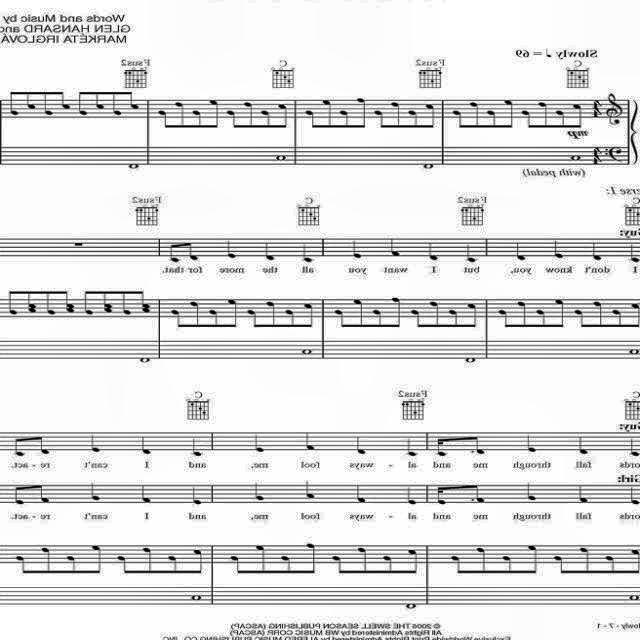Bass-clef: (604, 146, 624, 162)
Eighth-note: (79, 545, 103, 575), (295, 542, 317, 574), (518, 544, 538, 576), (247, 543, 266, 575), (396, 549, 418, 575), (348, 546, 368, 574), (572, 546, 592, 574), (183, 549, 204, 575), (619, 547, 640, 573), (221, 298, 239, 328), (318, 98, 334, 130), (386, 296, 402, 328), (349, 98, 366, 128), (32, 547, 50, 575), (134, 547, 152, 575), (56, 290, 76, 314), (14, 554, 38, 574), (450, 554, 474, 574), (567, 103, 585, 129), (501, 98, 515, 130), (464, 101, 480, 129), (238, 101, 254, 129), (170, 101, 186, 129), (587, 300, 603, 328), (424, 300, 440, 328), (260, 300, 276, 328), (184, 300, 200, 328), (470, 546, 486, 574), (229, 554, 251, 574), (83, 290, 101, 314), (205, 99, 219, 129), (534, 102, 550, 128), (420, 103, 436, 129), (106, 90, 122, 116), (76, 90, 92, 116), (36, 90, 52, 116), (462, 303, 478, 329), (331, 556, 354, 574), (304, 110, 324, 130), (226, 110, 246, 130), (51, 90, 71, 110), (334, 308, 354, 328), (272, 555, 292, 575), (374, 555, 394, 575), (596, 555, 616, 575), (116, 556, 138, 574), (552, 556, 574, 574), (386, 102, 400, 130), (8, 90, 24, 114), (114, 290, 130, 314), (40, 290, 56, 314), (27, 290, 43, 314), (134, 290, 150, 314), (274, 103, 288, 129), (626, 302, 640, 328), (8, 290, 22, 316), (521, 110, 539, 130), (573, 310, 593, 328), (552, 298, 564, 328), (497, 308, 515, 328), (410, 309, 430, 327), (352, 298, 364, 328), (33, 484, 51, 504), (158, 556, 178, 574), (374, 110, 391, 130), (158, 110, 175, 130), (19, 90, 36, 110), (245, 309, 262, 329), (300, 304, 314, 328), (103, 290, 117, 314), (89, 90, 105, 110), (168, 242, 184, 262), (14, 437, 30, 457), (496, 554, 512, 574), (170, 309, 187, 327), (452, 110, 468, 128), (121, 92, 139, 108), (182, 242, 198, 260), (32, 436, 48, 454), (60, 556, 76, 574), (404, 109, 418, 129), (516, 300, 526, 328), (444, 308, 458, 328), (203, 308, 217, 328), (14, 486, 28, 506), (338, 108, 350, 130), (554, 110, 566, 130), (258, 110, 270, 130), (190, 110, 202, 130), (610, 308, 622, 328), (534, 308, 546, 328), (370, 308, 382, 328), (484, 110, 496, 128), (284, 310, 296, 328), (472, 485, 484, 503), (639, 547, 640, 573)
Full-note: (187, 595, 206, 601), (273, 154, 287, 162), (568, 155, 584, 161), (301, 348, 313, 356), (628, 594, 640, 602), (406, 602, 418, 610), (127, 163, 141, 169), (139, 357, 151, 363), (464, 357, 476, 363), (628, 348, 640, 354)
Full-rest: (73, 242, 85, 246)
Quarter-note: (628, 244, 640, 264), (552, 240, 564, 260), (389, 238, 401, 258), (304, 431, 316, 451), (264, 243, 276, 261), (628, 487, 640, 505), (576, 485, 588, 503), (304, 482, 316, 500), (254, 483, 266, 501), (140, 436, 152, 454), (140, 485, 152, 503), (524, 484, 536, 501), (88, 484, 100, 501), (515, 242, 525, 262), (466, 244, 476, 264), (302, 243, 312, 263), (356, 484, 366, 504), (407, 487, 418, 505), (253, 435, 264, 453), (524, 436, 536, 452), (190, 488, 202, 504), (592, 242, 602, 260), (428, 242, 438, 260), (351, 240, 361, 258), (226, 241, 236, 259), (630, 439, 640, 457), (578, 437, 588, 455), (407, 439, 417, 457), (356, 436, 366, 454), (191, 439, 201, 457), (90, 435, 100, 453)
Sixteenth-note: (436, 486, 449, 506)
Treble-clef: (606, 92, 622, 125)
